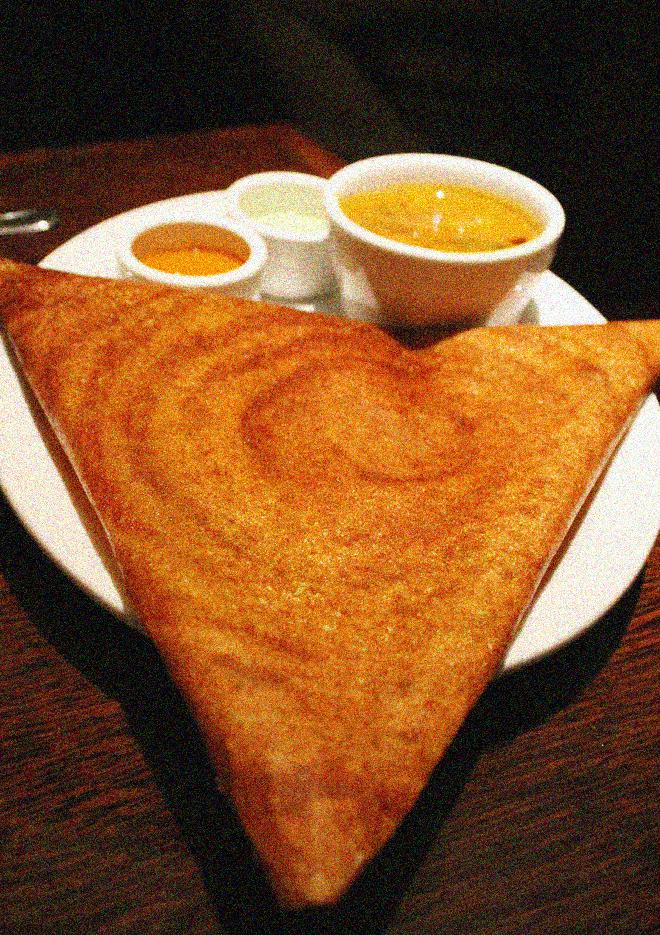dosa: (1, 257, 660, 910)
